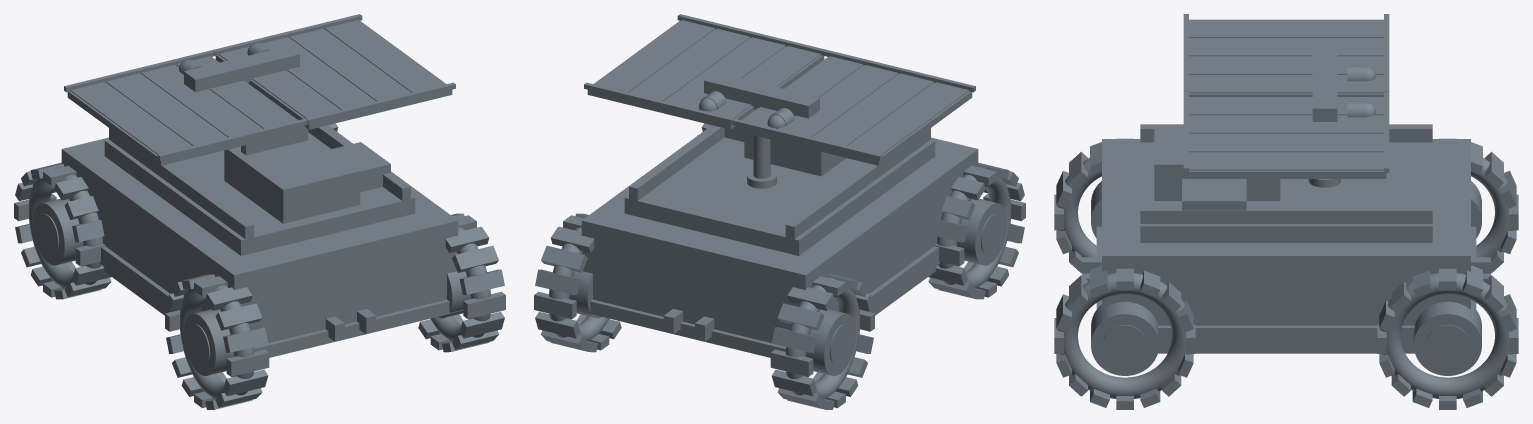
Rendered from flip_freecad.glb.
3 renders of one model, left to right at view 1: azimuth 30°, elevation 25°; view 2: azimuth 150°, elevation 25°; view 3: azimuth 270°, elevation 25°, orthographic. The views are drawn at different scales.
Parts seen in each view (by area): view 1: flip; view 2: flip; view 3: flip.
Boxes of the visible parts, <box> form: flip: <box>14,14,505,409</box>; flip: <box>534,14,1025,409</box>; flip: <box>1054,14,1518,409</box>.
Size of the model in its own units: 2.38 by 1.85 by 3.02.
